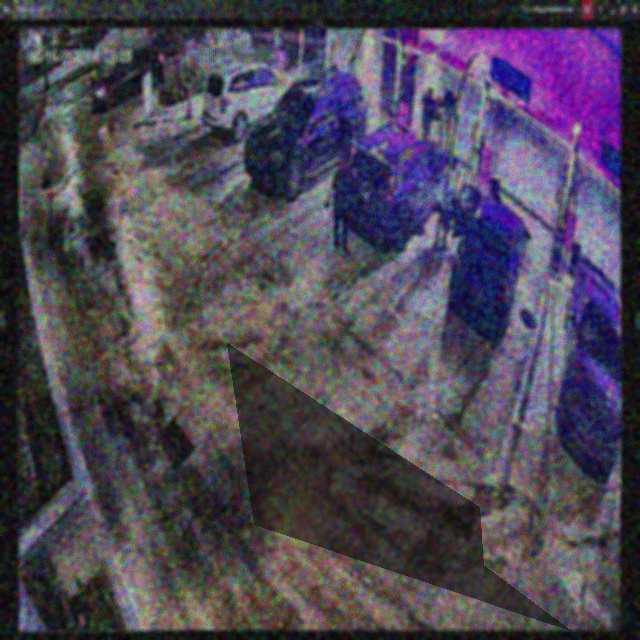Car: (247, 67, 367, 195), (341, 119, 449, 251), (450, 187, 532, 336)
